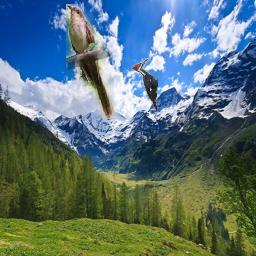Cuckoo: (67, 5, 116, 120)
Woodpecker: (132, 59, 159, 112)
